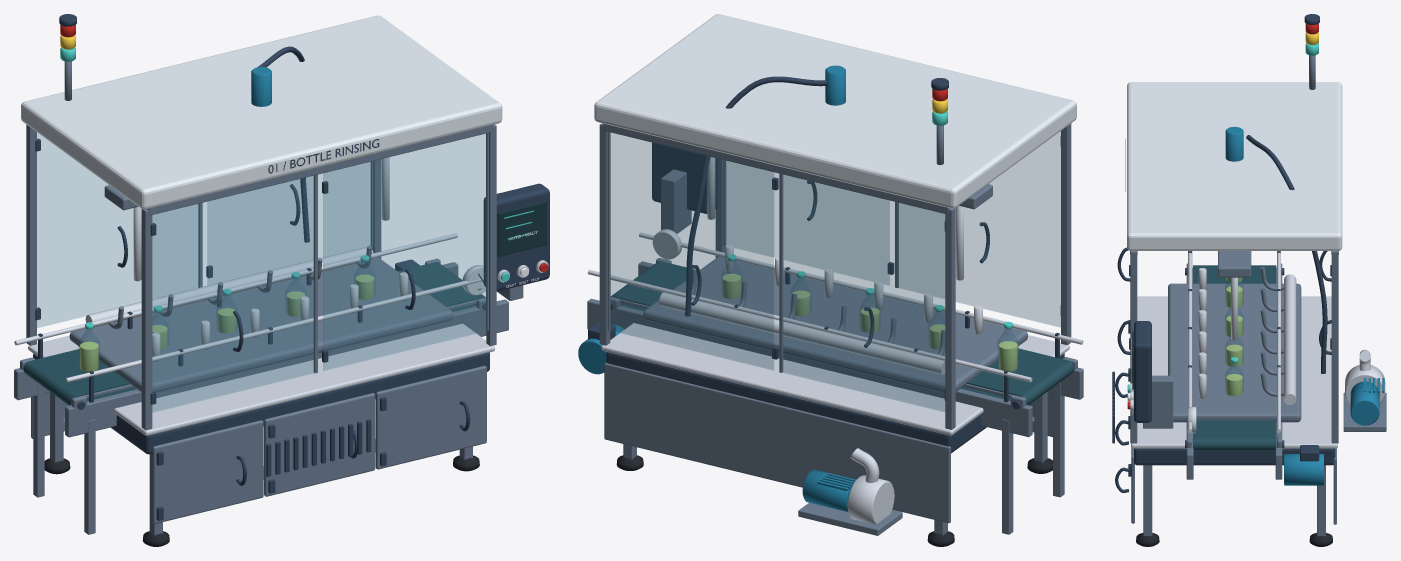
The model's file is wash.glb.
The picture shows the model from 3 angles, left to right: view 1: azimuth 30°, elevation 25°; view 2: azimuth 150°, elevation 25°; view 3: azimuth 270°, elevation 25°; orthographic projection. The views are drawn at different scales.
Visible parts, largest first — view 1: Crown fascia, Polycarbonate safety door.001, Polycarbonate safety door, Drain tray, Polycarbonate safety door.002, Rinser top, Polycarbonate safety door.003, Rinser access door, Rinser access door.002, Rinser access door.001, Rinser chassis, Folded side channel (+22 smaller); view 2: Crown fascia, Polycarbonate safety door.003, Polycarbonate safety door.002, Rinser rear, Polycarbonate safety door, Drain tray, Polycarbonate safety door.001, Rinser top, Rinser chassis, Continuous hygienic PU belt.011, Folded side channel.001, Water header (+24 smaller); view 3: Crown fascia, Drain tray, Rinser top, Continuous hygienic PU belt.011, Rinser chassis, Rinse controls controller, Water header, Guard extrusion.003, Rinse controls mounting bracket, Rinse jet, Conveyor gearmotor, TEFC motor (+16 smaller).
Boxes of the visible parts, left/top/right/bottom form: Crown fascia: left=21, top=15, right=502, bottom=209; Polycarbonate safety door.001: left=323, top=134, right=486, bottom=370; Polycarbonate safety door: left=152, top=176, right=313, bottom=412; Drain tray: left=69, top=257, right=453, bottom=392; Polycarbonate safety door.002: left=37, top=133, right=198, bottom=327; Rinser top: left=28, top=323, right=494, bottom=435; Polycarbonate safety door.003: left=208, top=162, right=370, bottom=284; Rinser access door: left=152, top=420, right=263, bottom=523; Rinser access door.002: left=375, top=365, right=486, bottom=469; Rinser access door.001: left=264, top=393, right=375, bottom=496; Rinser chassis: left=33, top=352, right=489, bottom=454; Folded side channel: left=65, top=299, right=508, bottom=437; Crown fascia: left=594, top=14, right=1076, bottom=208; Polycarbonate safety door.003: left=610, top=132, right=773, bottom=369; Polycarbonate safety door.002: left=783, top=175, right=944, bottom=411; Rinser rear: left=604, top=362, right=950, bottom=523; Polycarbonate safety door: left=898, top=131, right=1060, bottom=327; Drain tray: left=643, top=256, right=1027, bottom=392; Polycarbonate safety door.001: left=726, top=161, right=889, bottom=284; Rinser top: left=601, top=323, right=1069, bottom=435; Rinser chassis: left=606, top=352, right=1064, bottom=453; Continuous hygienic PU belt.011: left=611, top=261, right=1074, bottom=405; Folded side channel.001: left=587, top=298, right=1032, bottom=437; Water header: left=659, top=292, right=945, bottom=374; Crown fascia: left=1127, top=82, right=1342, bottom=250; Drain tray: left=1168, top=283, right=1301, bottom=422; Rinser top: left=1131, top=296, right=1337, bottom=448; Continuous hygienic PU belt.011: left=1193, top=265, right=1276, bottom=450; Rinser chassis: left=1134, top=448, right=1335, bottom=465; Rinse controls controller: left=1134, top=321, right=1151, bottom=422; Water header: left=1284, top=274, right=1296, bottom=404; Guard extrusion.003: left=1331, top=251, right=1338, bottom=443; Rinse controls mounting bracket: left=1143, top=375, right=1173, bottom=428; Rinse jet: left=1198, top=268, right=1206, bottom=398; Conveyor gearmotor: left=1284, top=454, right=1323, bottom=485; TEFC motor: left=1350, top=381, right=1379, bottom=425.
Bounding box in the file's own units: 3.29 × 3.15 × 1.98.
